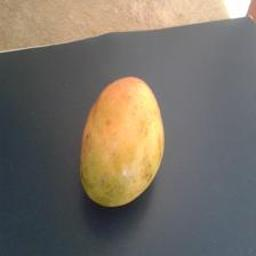Mango Fresh: (59, 61, 172, 222)
